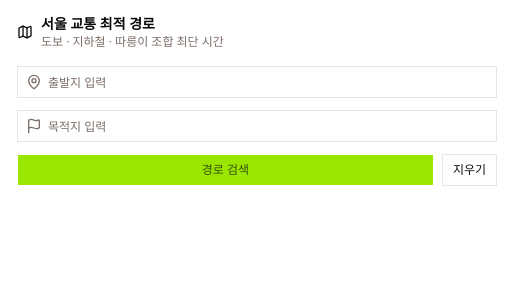
Scenario: TransportRouteFinder › shows empty route message when no routes found (Scenario 6)
Type "서울역" into the field with placeholder "출발지 입력". click: (269, 82)
box: [42,66,496,98]
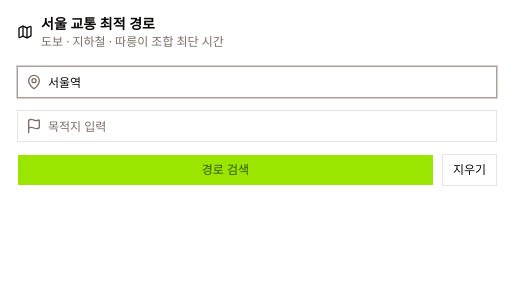
Type "강남역" into the field with placeholder "목적지 입력". click: (269, 126)
box: [42,110,496,142]
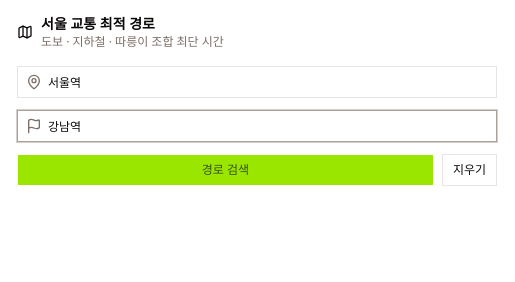
Click the button "경로 검색". click: (225, 170)
box: [17,154,434,186]
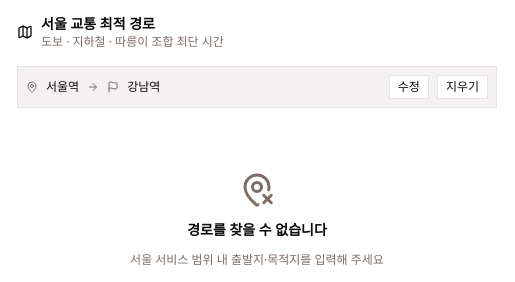
Expected: the text "경로를 찾을 수 없습니다" is shown, [187,220,327,240]
